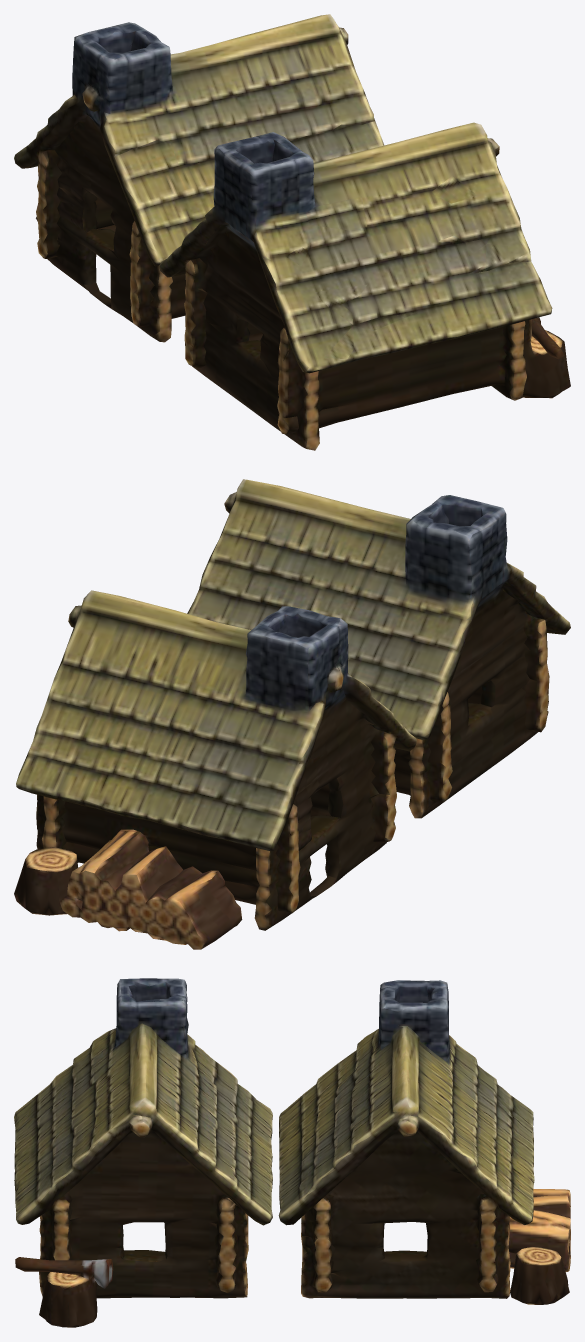
Rendered from village_forest_b.glb.
3 views of the same model, one above another, from view 1: azimuth 30°, elevation 25°; view 2: azimuth 150°, elevation 25°; view 3: azimuth 270°, elevation 25° (orthographic). The views are drawn at different scales.
Visible parts, largest first — view 1: world; view 2: world; view 3: world.
Boxes of the visible parts, x1,y1,x2,y2 form: world: (14,14,570,450); world: (14,479,570,949); world: (14,978,570,1327).
Size of the model in its own units: 0.5456 by 0.4534 by 0.9991.
1 material, 1 textured.
